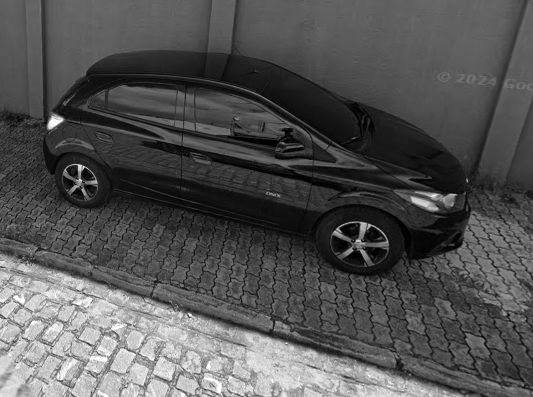car: (42, 44, 473, 277)
